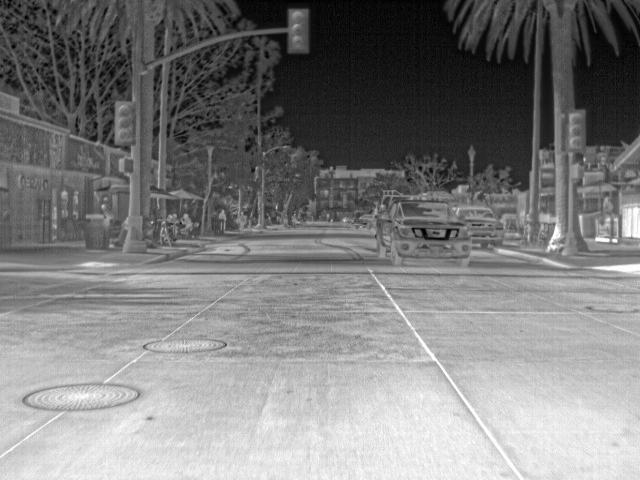car: (378, 199, 471, 265), (453, 204, 504, 252), (355, 214, 379, 230), (343, 215, 353, 224)
person: (49, 203, 61, 241), (102, 201, 116, 226), (180, 213, 195, 236), (601, 196, 616, 215), (217, 207, 228, 232), (236, 208, 248, 230), (166, 213, 175, 224), (174, 213, 181, 224)
